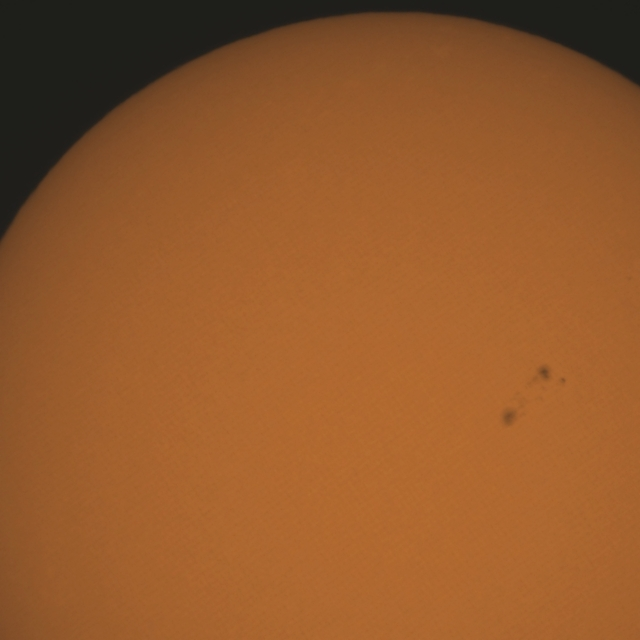sunspot: (500, 397, 528, 428), (536, 364, 568, 388), (536, 364, 552, 383)
